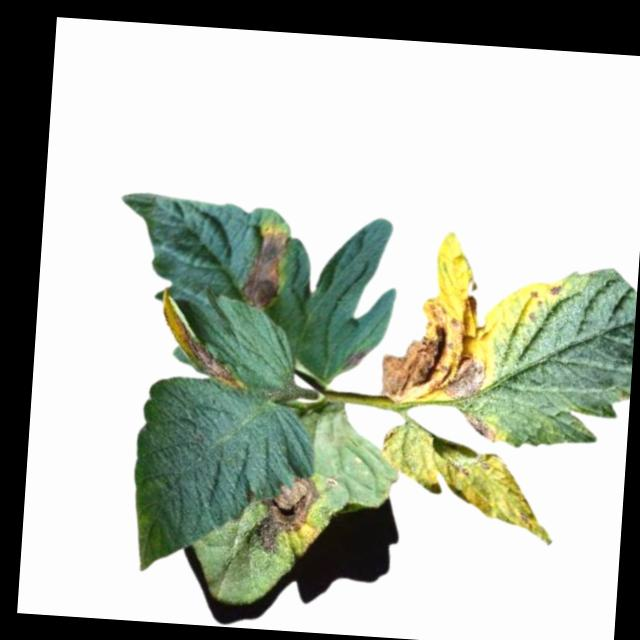Early_blight: (378, 280, 500, 406), (157, 290, 249, 388), (244, 471, 325, 556), (239, 220, 293, 312), (465, 411, 499, 443), (550, 283, 565, 295)
